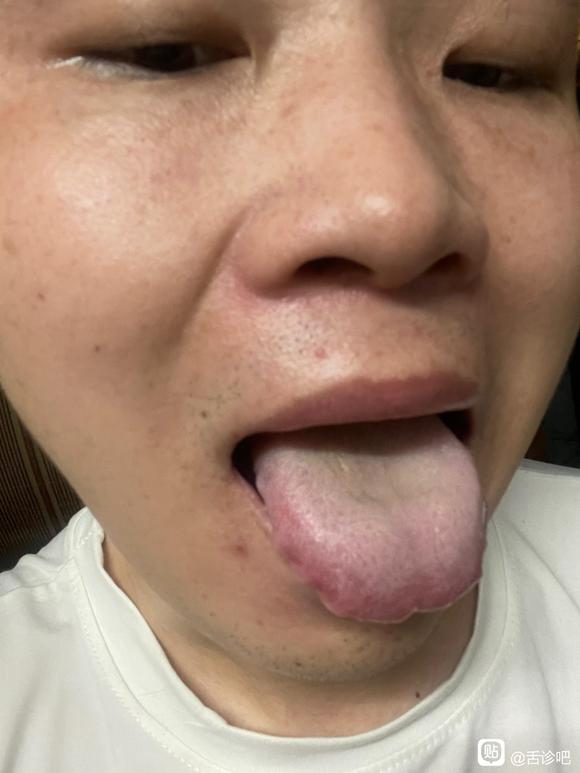chihenshe: (268, 507, 338, 609)
huangtaishe: (251, 413, 486, 622)
piweiao: (328, 448, 430, 522)
